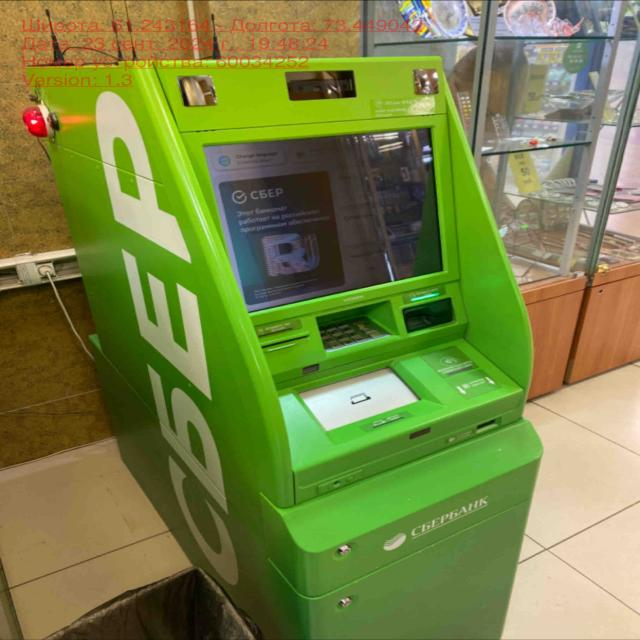bank: (21, 54, 540, 640)
